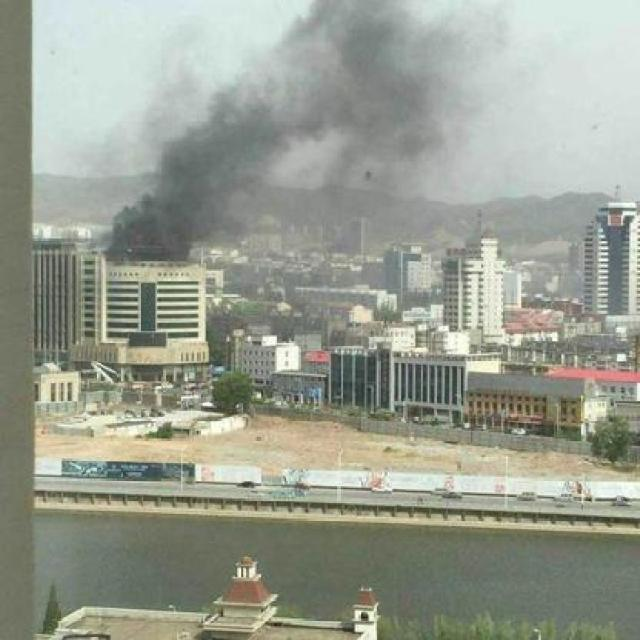Smoke: (100, 0, 477, 256)
